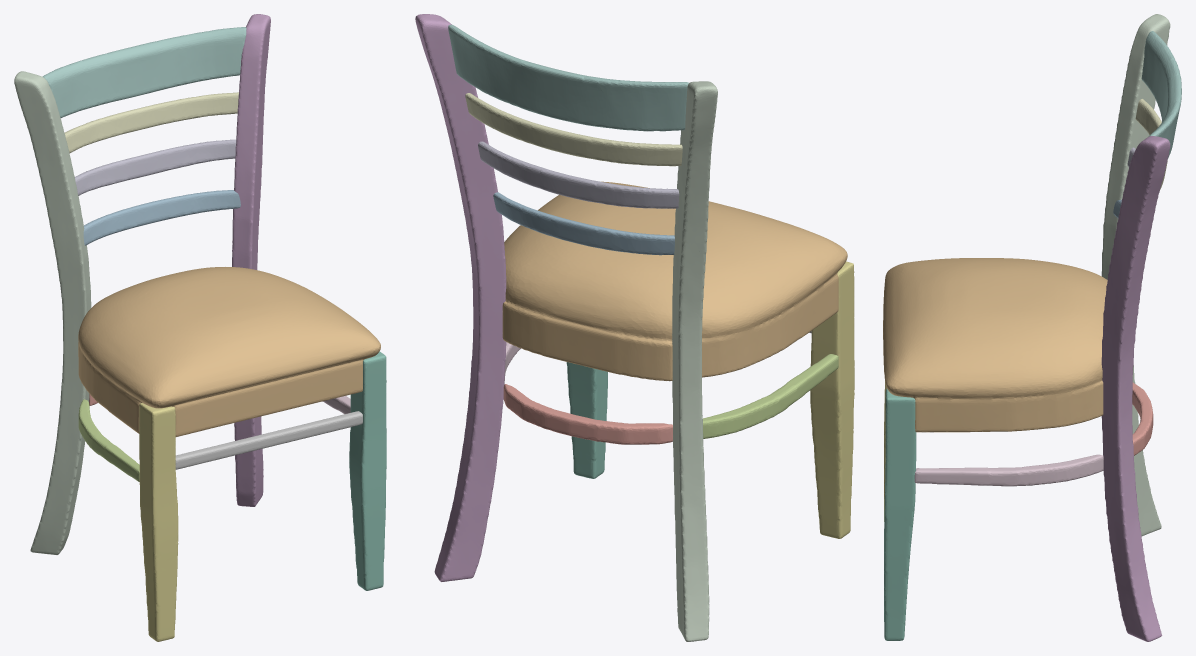
Rendered from chair2.glb.
3 views of the same model, side by side, from view 1: azimuth 30°, elevation 25°; view 2: azimuth 150°, elevation 25°; view 3: azimuth 270°, elevation 25° (orthographic). The views are drawn at different scales.
Visible parts, largest first — view 1: world; view 2: world; view 3: world.
Part boxes in pixels (x1,y1,x2,y2): world: (14,14,386,641); world: (415,14,854,641); world: (883,14,1181,641).
Bounding box in the file's own units: 1.07 × 1.91 × 1.02.
